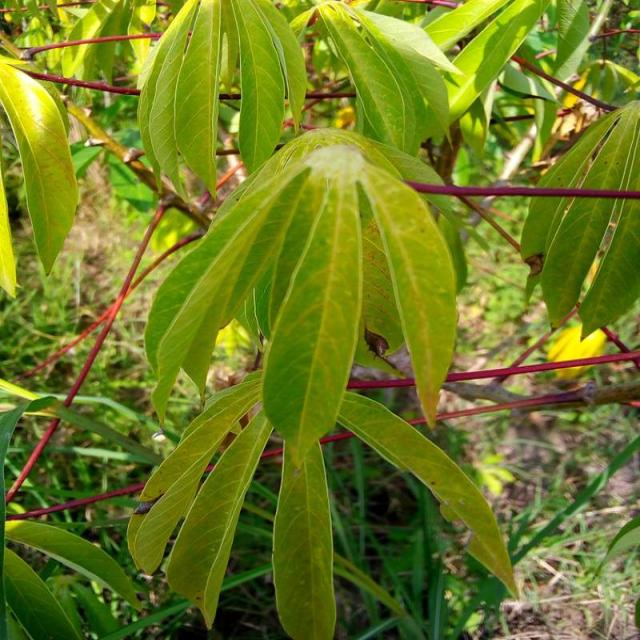cassava leaf: (142, 128, 460, 466), (136, 0, 306, 203), (519, 97, 639, 340), (0, 55, 78, 277)
